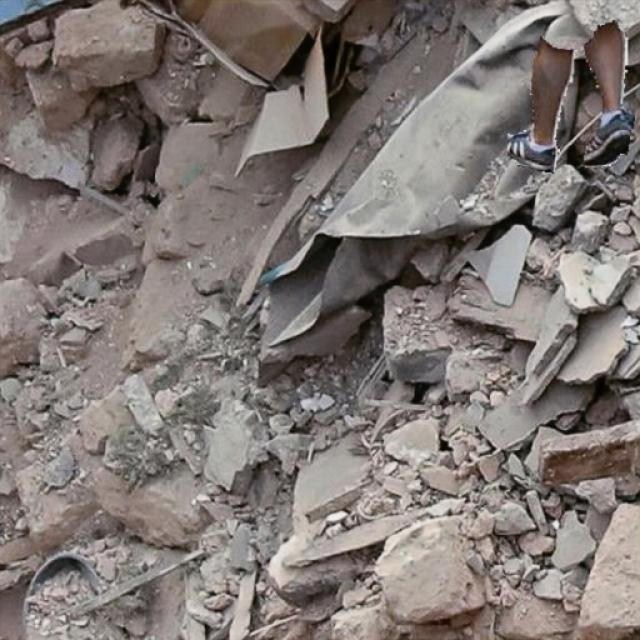Person in Rubble: (508, 19, 634, 172)
